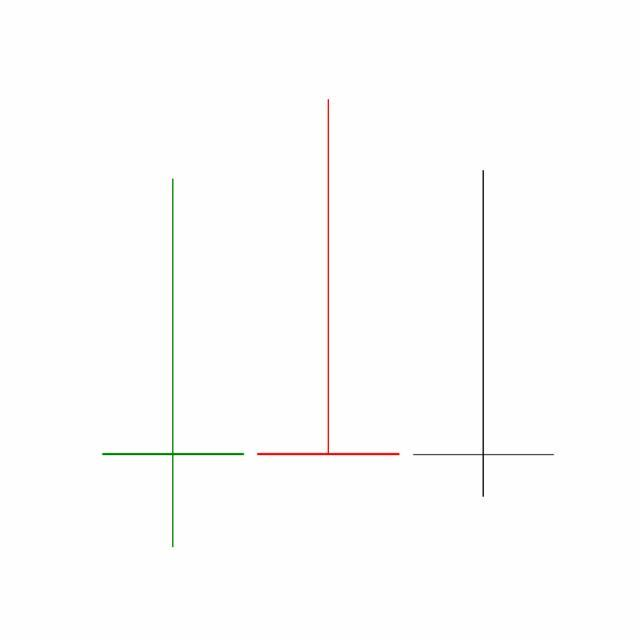Gravestone Doji: (250, 95, 407, 459)
